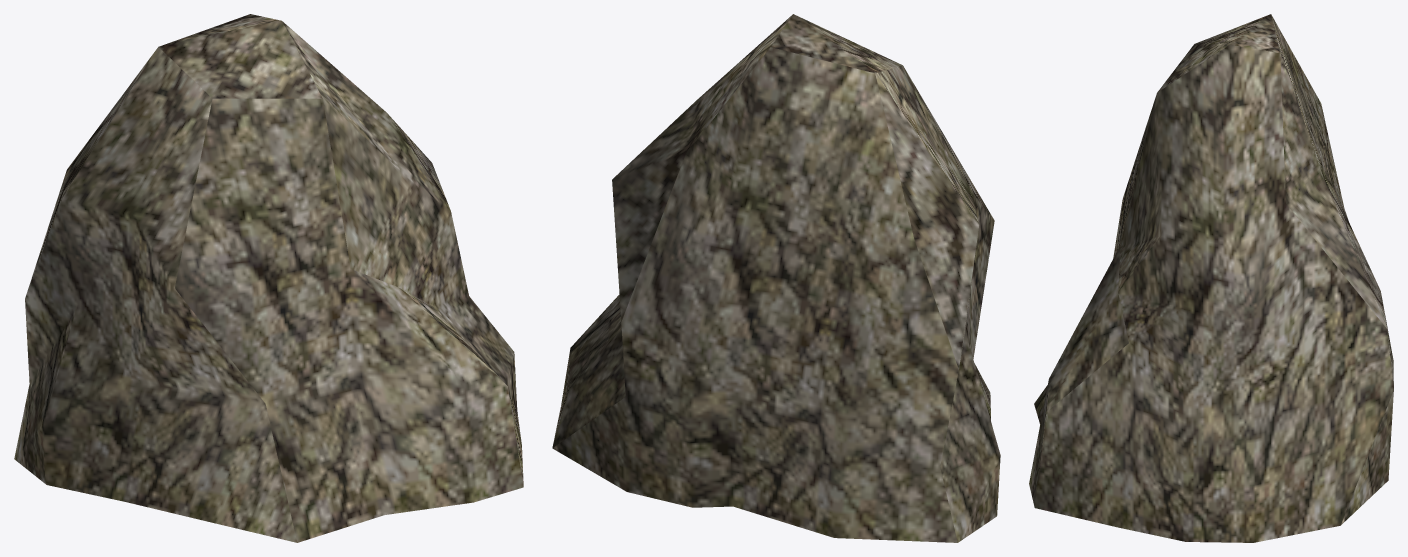
The model's file is general_obj_bigstone07.glb.
3 views of the same model, side by side, from view 1: azimuth 30°, elevation 25°; view 2: azimuth 150°, elevation 25°; view 3: azimuth 270°, elevation 25° (orthographic). The views are drawn at different scales.
Parts seen in each view (by area): view 1: Sphere01fs; view 2: Sphere01fs; view 3: Sphere01fs.
Part boxes in pixels (x1=…): Sphere01fs: x1=14, y1=14, x2=523, y2=542; Sphere01fs: x1=552, y1=14, x2=1000, y2=542; Sphere01fs: x1=1029, y1=14, x2=1393, y2=542.
Bounding box in the file's own units: 12.78 × 11.95 × 9.86.
1 material, 1 textured.
